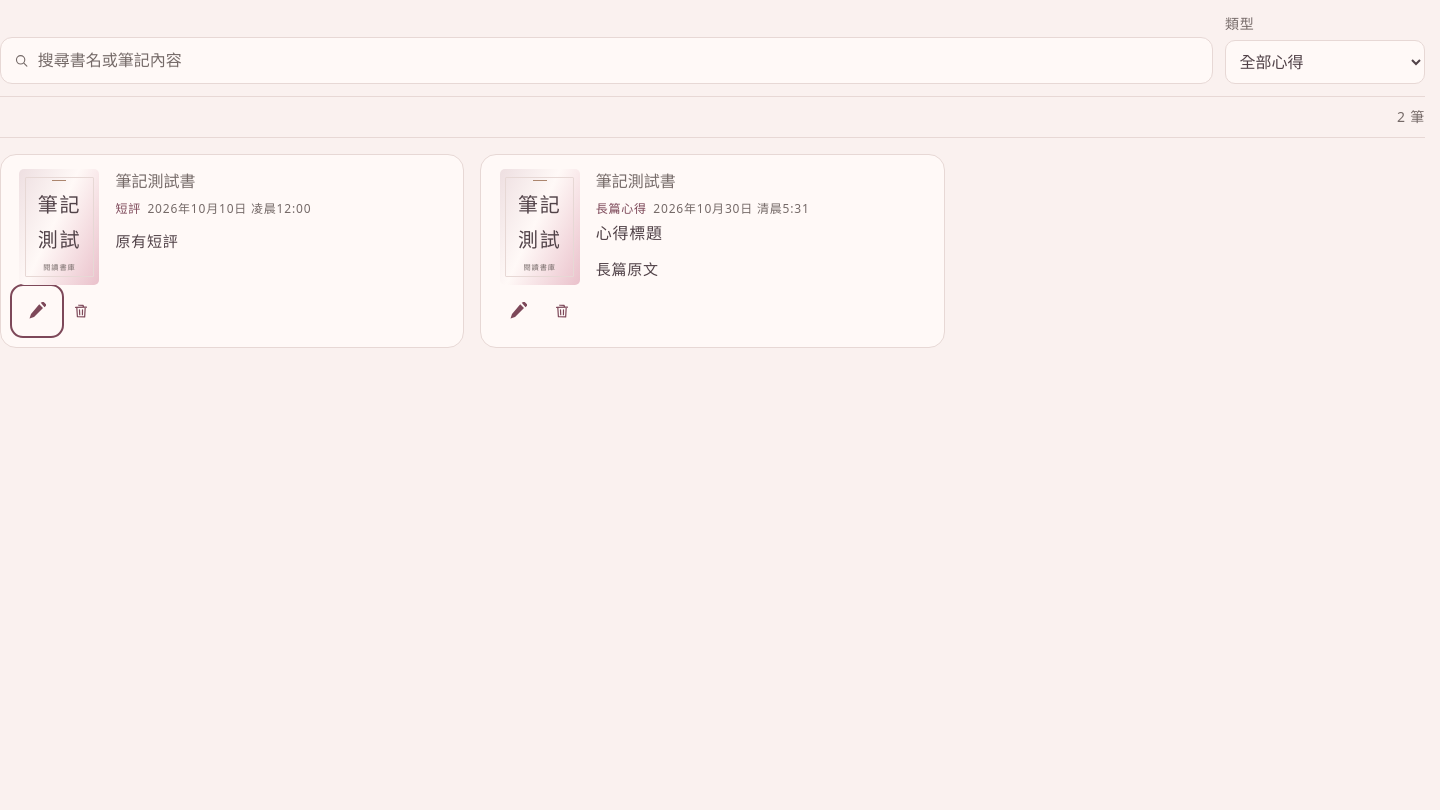
it: prevents duplicate submission and closing while a save is pending
The image size is (1440, 810).
Expected: the text "原有短評" is shown, [115,231,179,251]
Click the 1st button named "編輯".
click(37, 311)  # box [15,289,59,333]
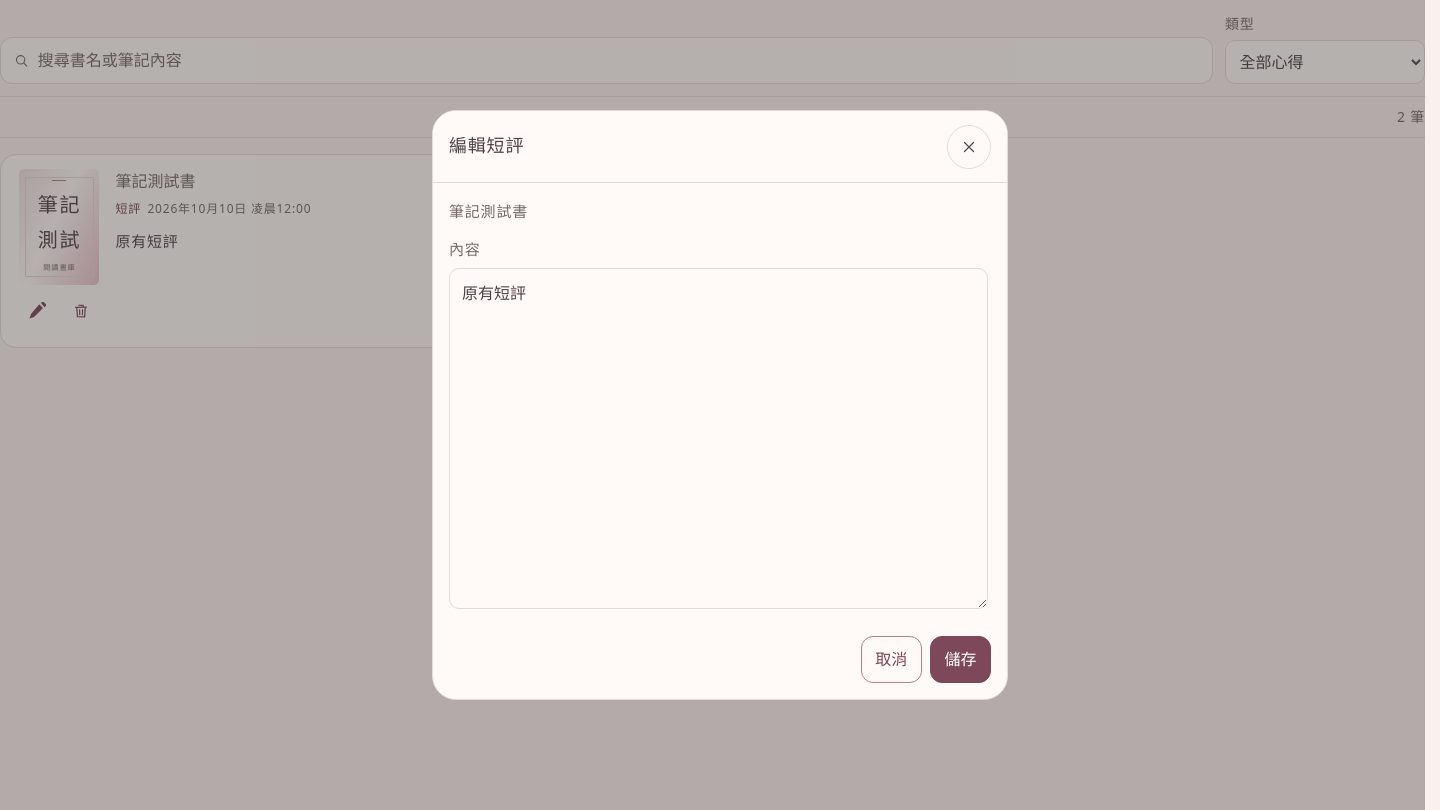
Replace the text in the text box labelled "內容" with "等待儲存" at (718, 438), box [449,268,988,609]
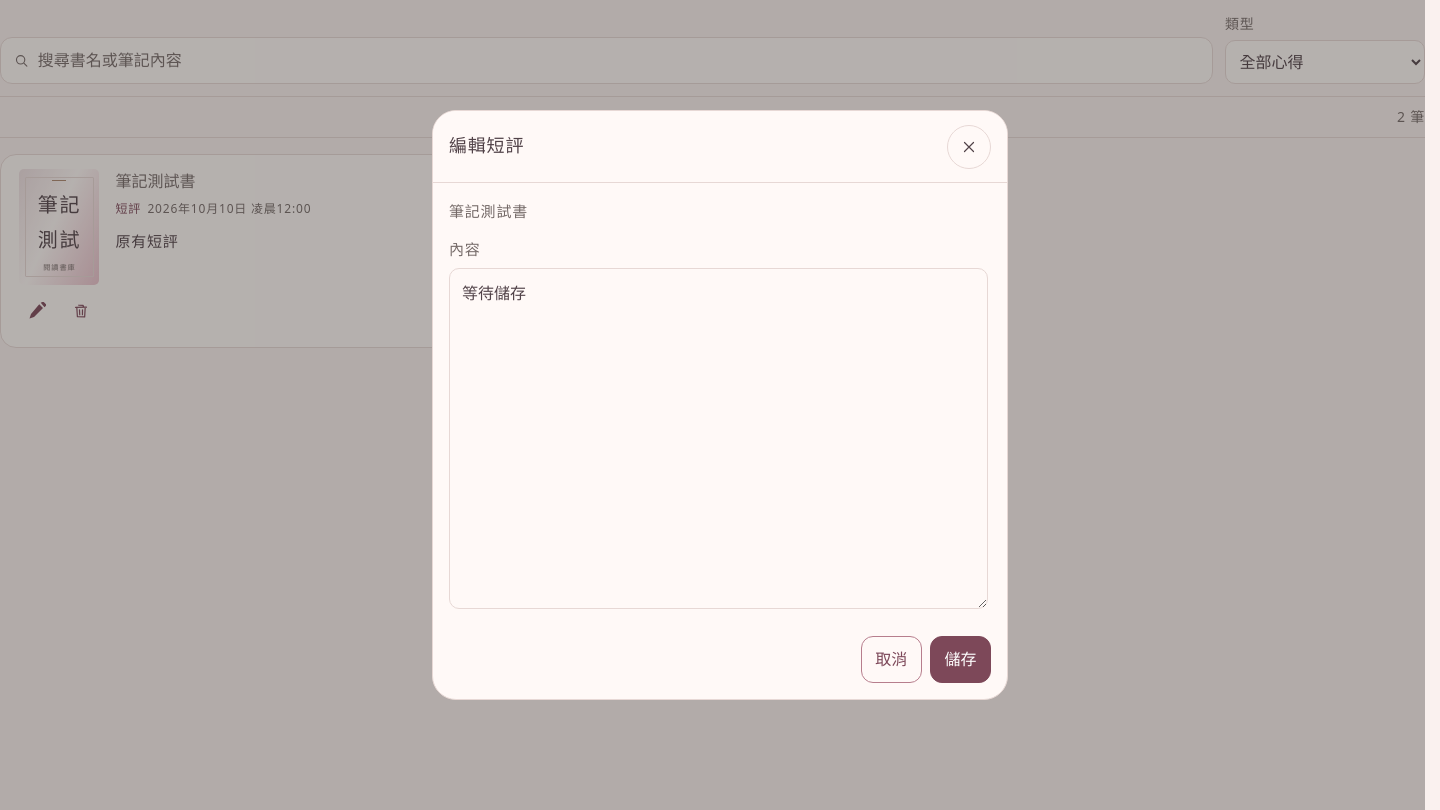
Submit the form, box [449,199,991,683]
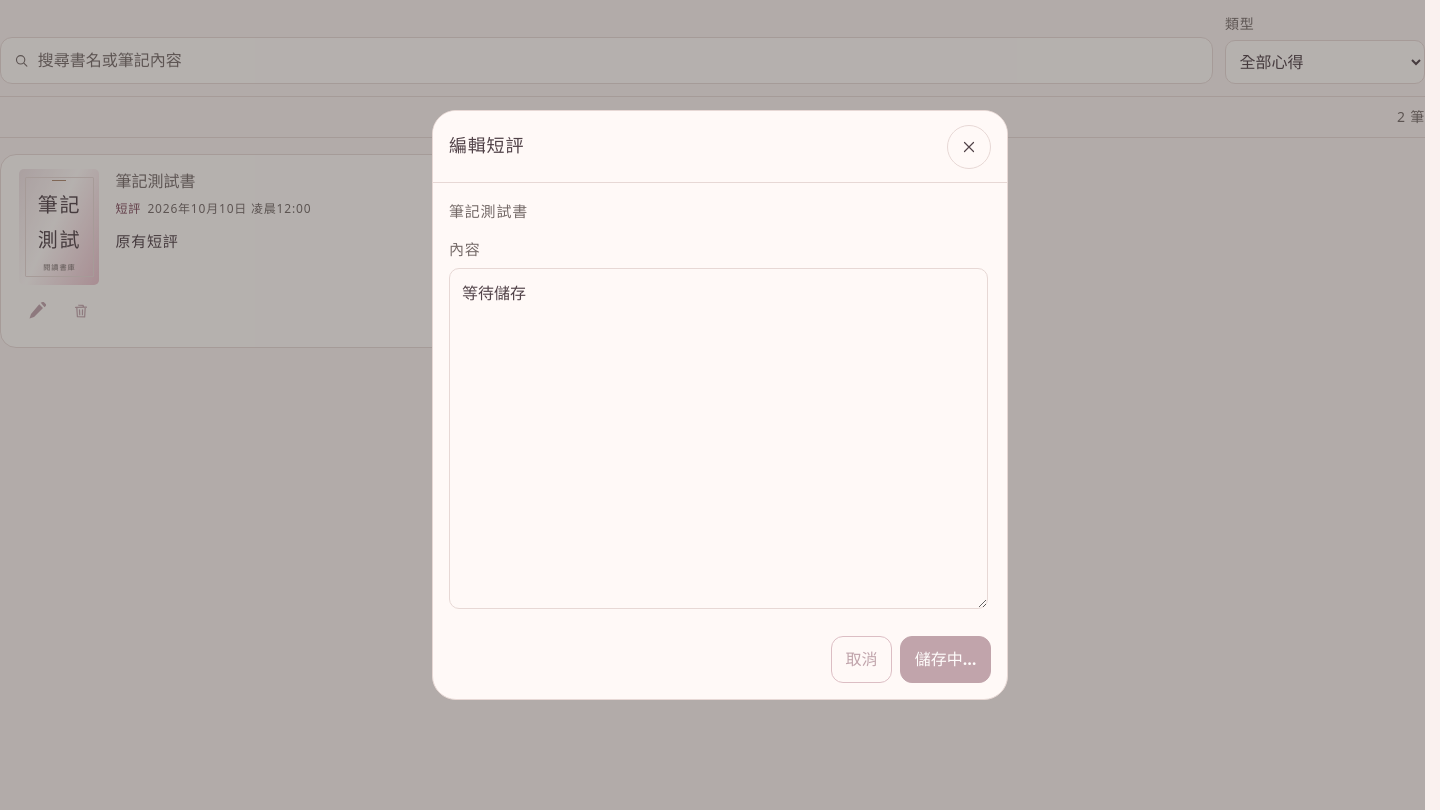
Submit the form, box [449,199,991,683]
Now the button "儲存中…" is disabled, box [900,636,991,683]
Press Escape
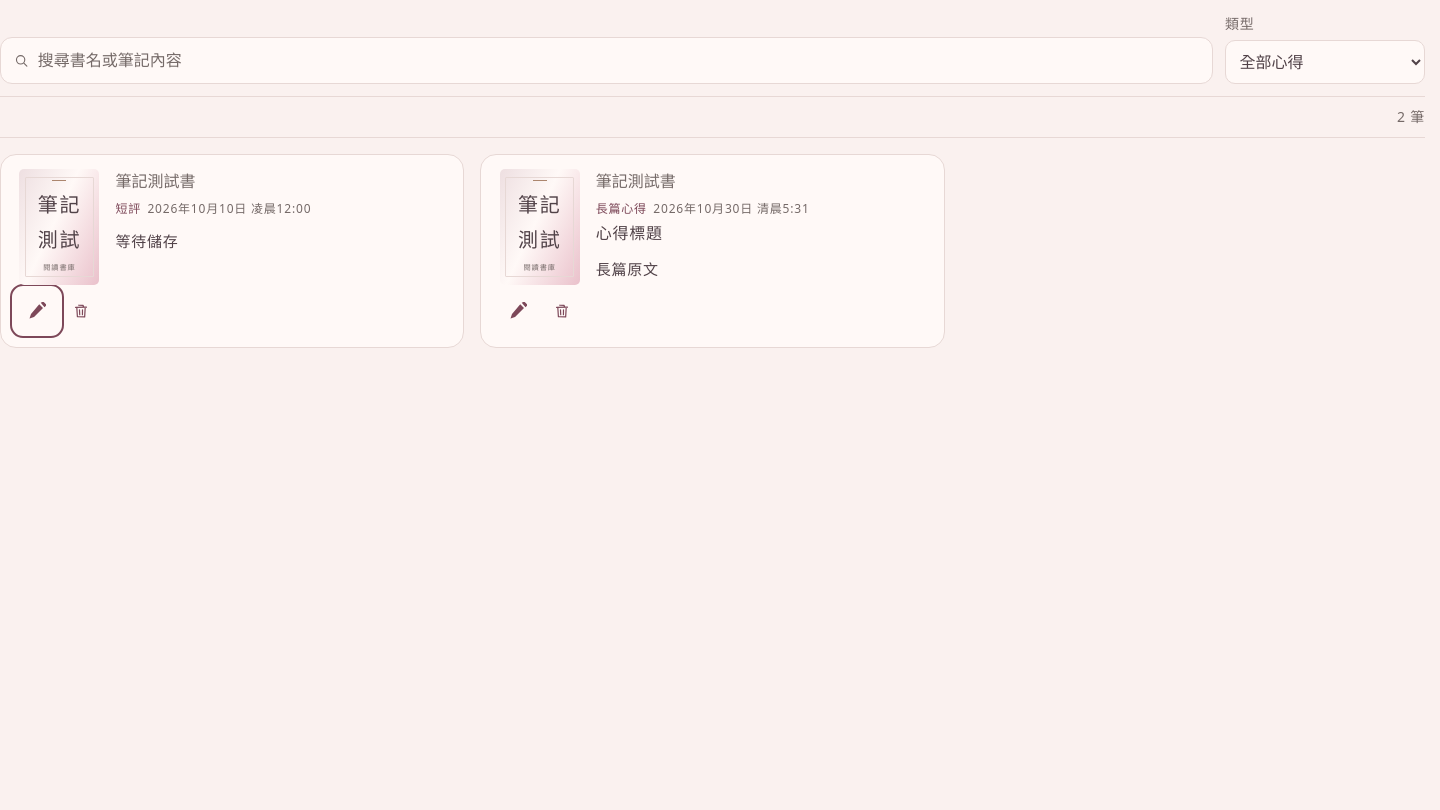
Now the dialog is gone
